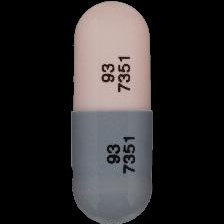0093-7351: (0, 0, 224, 224)
